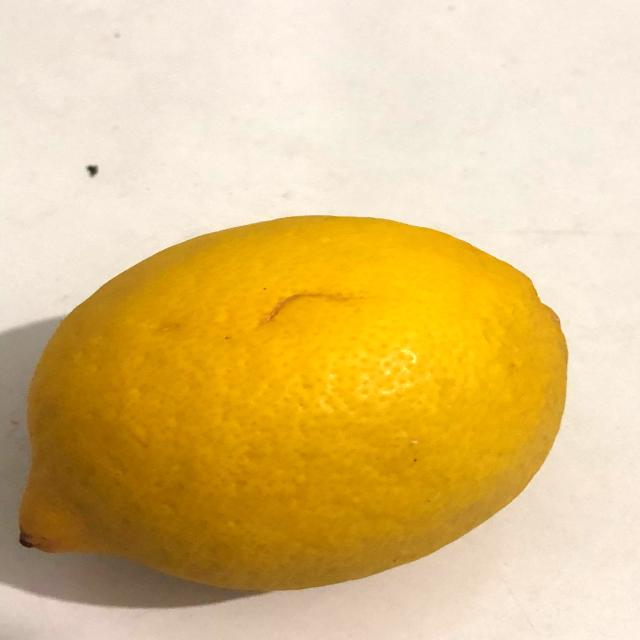lemon: (7, 196, 581, 605)
